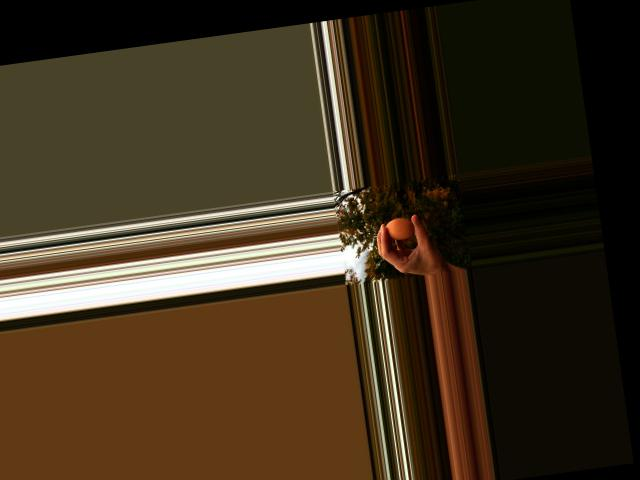egg: (383, 216, 415, 241)
